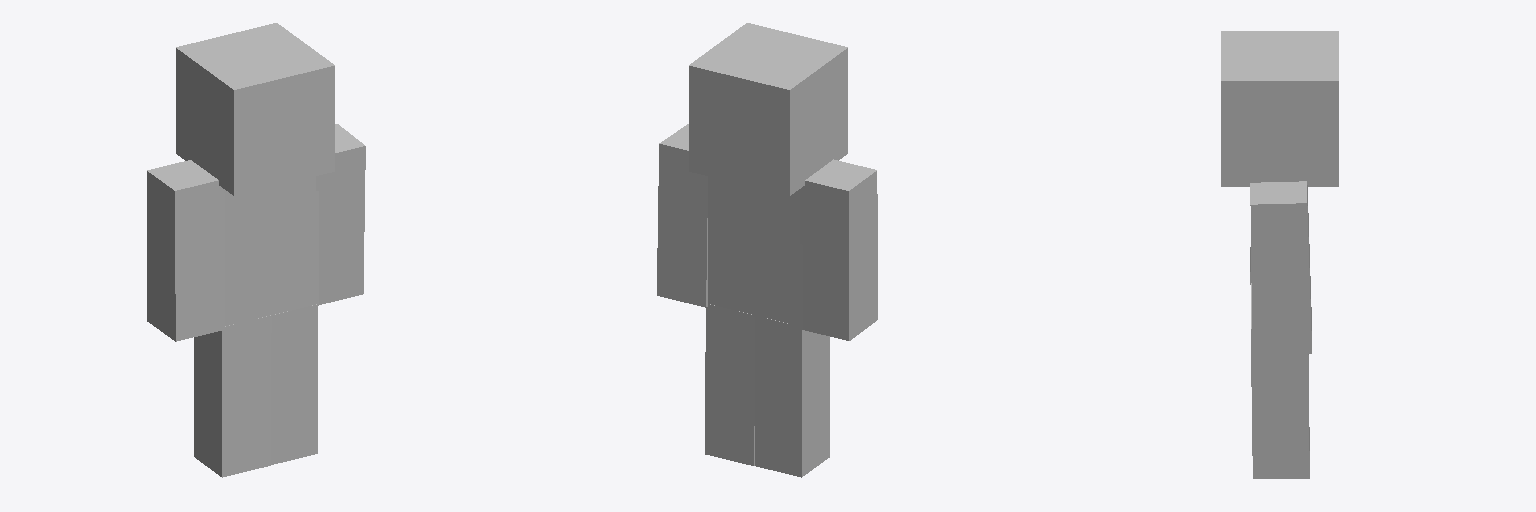
Rendered from SteveWaiting.obj.
3 renders of one model, left to right at view 1: azimuth 30°, elevation 25°; view 2: azimuth 150°, elevation 25°; view 3: azimuth 270°, elevation 25°, orthographic.
Visible parts, largest first — view 1: SimplePlayer.Body.Layer2_Cube.002; view 2: SimplePlayer.Body.Layer2_Cube.002; view 3: SimplePlayer.Body.Layer2_Cube.002.
Part boxes in pixels (x1,y1,x2,y2): SimplePlayer.Body.Layer2_Cube.002: (147,23,365,477); SimplePlayer.Body.Layer2_Cube.002: (657,23,877,477); SimplePlayer.Body.Layer2_Cube.002: (1221,31,1338,478).
Size of the model in its own units: 1.01 by 2.02 by 0.5356.